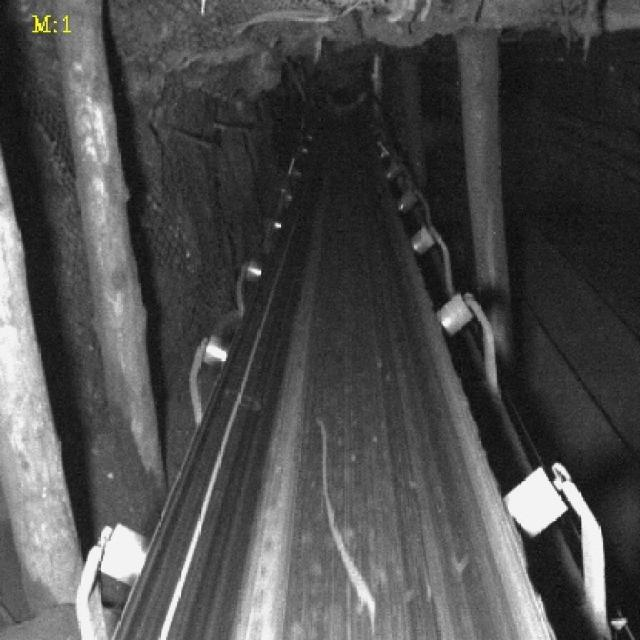bolt: (310, 420, 378, 617)
